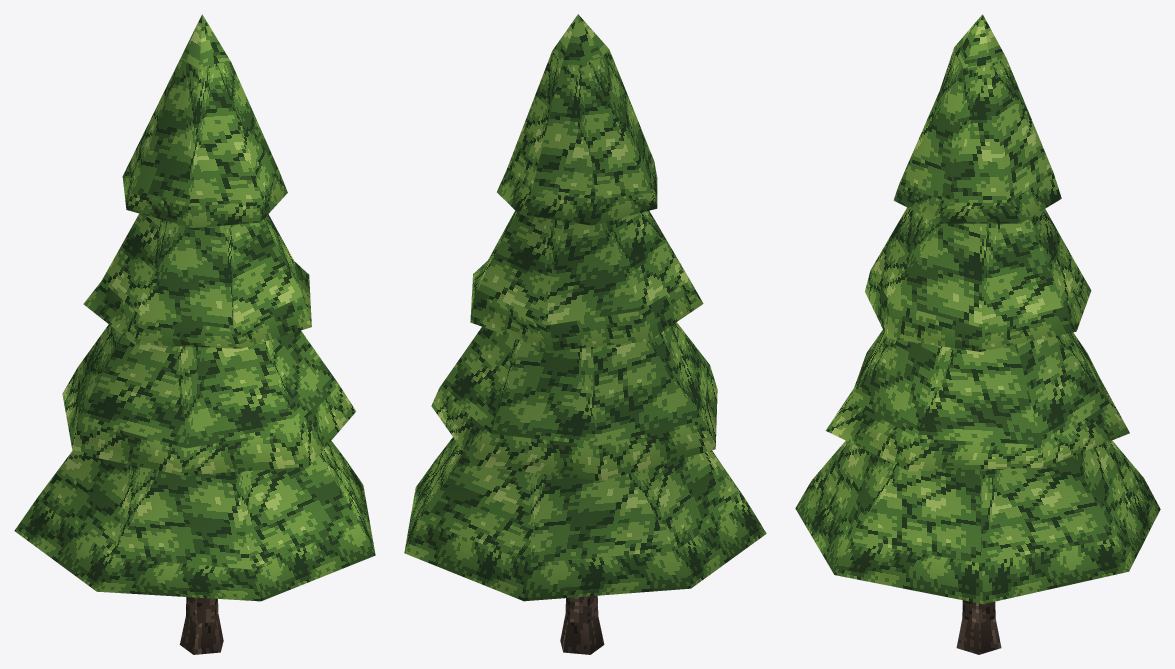
The model's file is mnat.pine.glb.
The picture shows the model from 3 angles, left to right: view 1: azimuth 30°, elevation 25°; view 2: azimuth 150°, elevation 25°; view 3: azimuth 270°, elevation 25°; orthographic projection.
Parts seen in each view (by area): view 1: kit_tiers, kit_trunk; view 2: kit_tiers, kit_trunk; view 3: kit_tiers, kit_trunk.
Part boxes in pixels (x1,y1,x2,y2): kit_tiers: [14, 14, 375, 601]; kit_trunk: [179, 597, 223, 654]; kit_tiers: [404, 14, 766, 601]; kit_trunk: [560, 595, 604, 654]; kit_tiers: [795, 14, 1160, 604]; kit_trunk: [956, 600, 1001, 654].
Bounding box in the file's own units: 4.52 × 8.74 × 4.59.
Materials: 2 (2 with a texture image).
